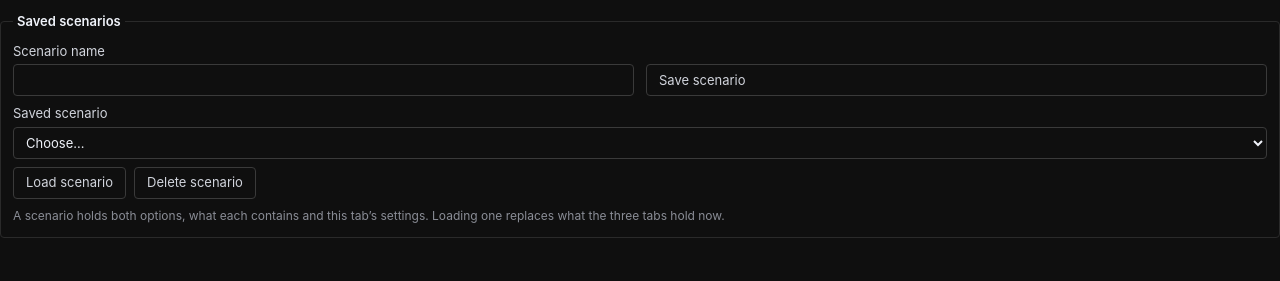
PlannerScenarios › replaces a scenario of the same name, from the revision it read
Type "Haifa" into the field labelled "Scenario name" at (324, 80), box [13,64,634,96]
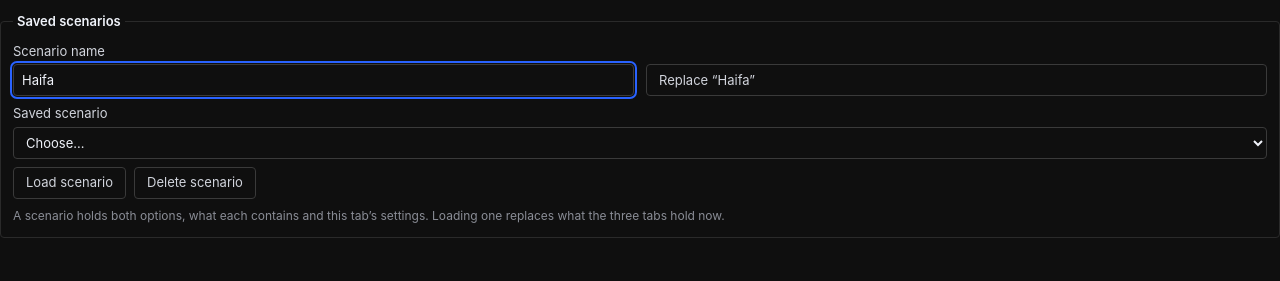
# The button says what it will do to the one that is there.
Click the button "Replace “Haifa”" at (707, 80), box [646,64,1267,96]
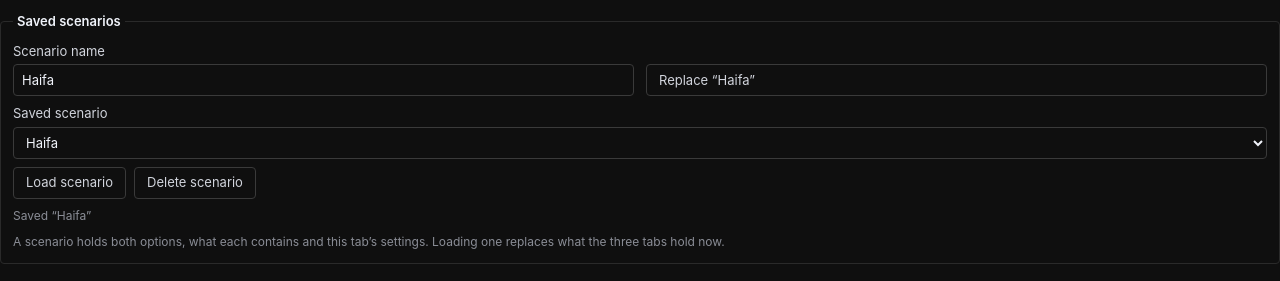
Expected: the text "Saved “Haifa”" is shown, [13,208,91,223]
